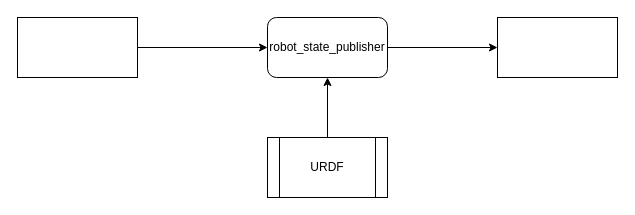
This 635x215 diagram has some shape labels left out. The shapes that lost their labels are listed below. From the top down, each one's box as (x1, y1, x2, y2) in pixels, then its label:
(16, 16, 138, 78): /joint_state
(496, 16, 618, 78): /tf
